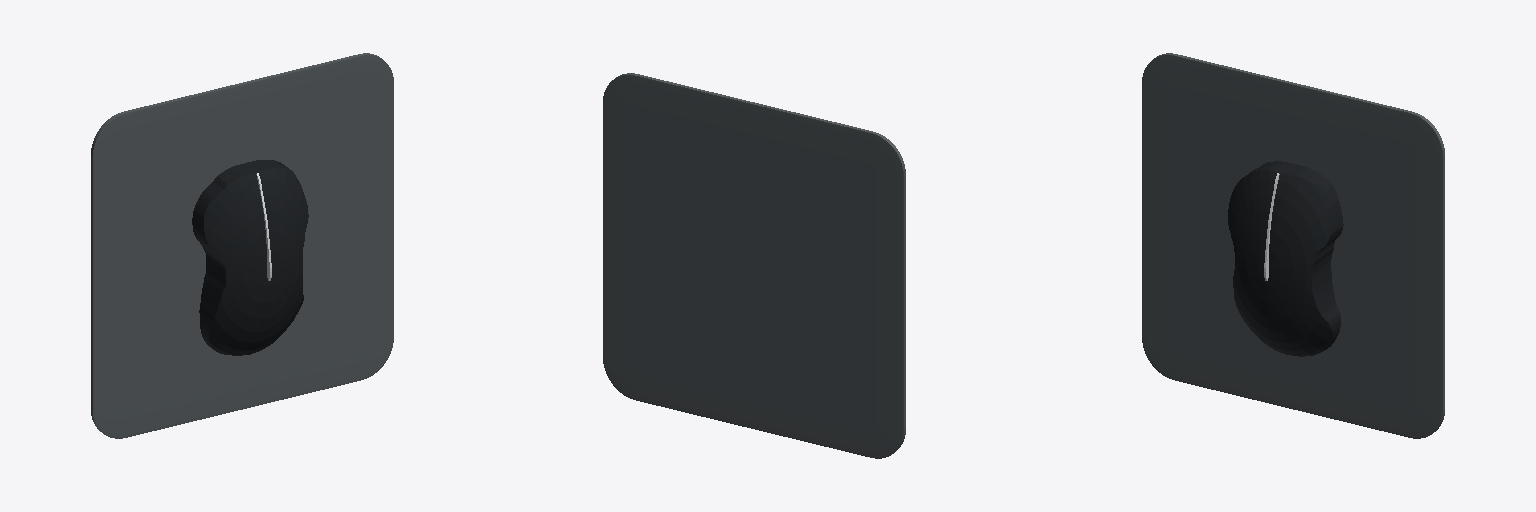
The model's file is mouse.obj.
The picture shows the model from 3 angles: view 1: azimuth 30°, elevation 25°; view 2: azimuth 150°, elevation 25°; view 3: azimuth 330°, elevation 25°; orthographic projection.
Parts seen in each view (by area): view 1: obj_0; view 2: obj_0; view 3: obj_0.
Part boxes in pixels (left/top/right/bottom): obj_0: left=91, top=53, right=393, bottom=438; obj_0: left=603, top=73, right=905, bottom=458; obj_0: left=1142, top=53, right=1444, bottom=438.
Bounding box in the file's own units: 64 × 66 × 11.